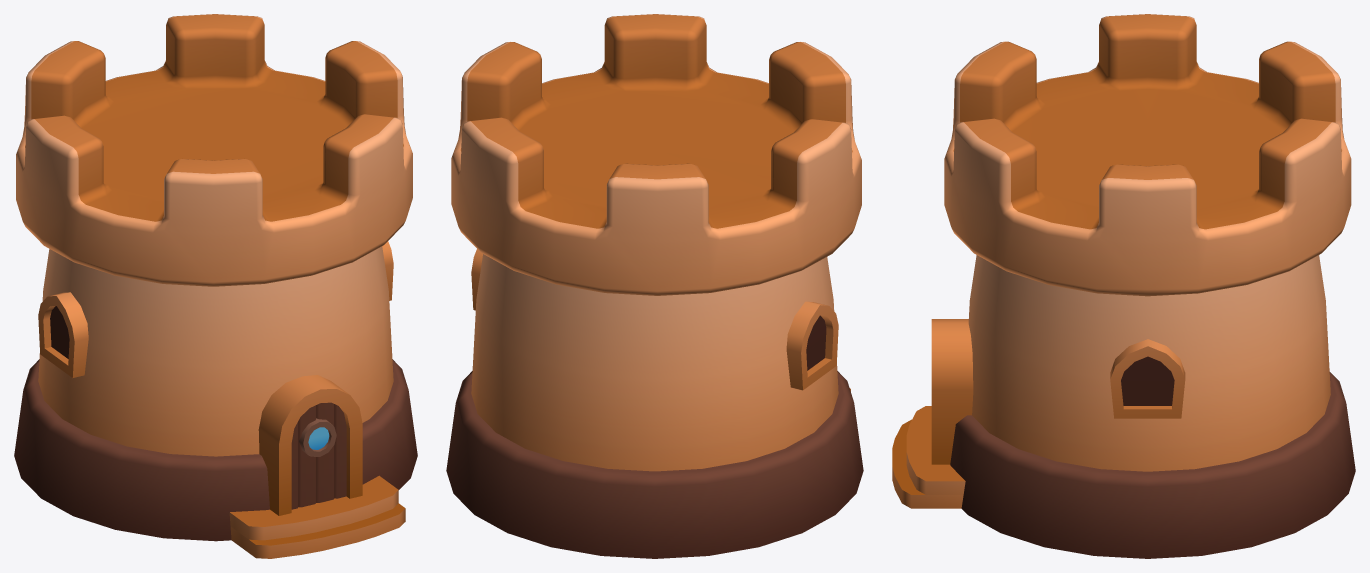
File: Tower_01.glb
The picture shows the model from 3 angles, left to right: view 1: azimuth 30°, elevation 25°; view 2: azimuth 150°, elevation 25°; view 3: azimuth 270°, elevation 25°; orthographic projection. The views are drawn at different scales.
Parts seen in each view (by area): view 1: Tower_01; view 2: Tower_01; view 3: Tower_01.
Part boxes in pixels (x1,y1,x2,y2): Tower_01: (14,14,417,558); Tower_01: (446,14,863,558); Tower_01: (892,14,1355,558).
Bounding box in the file's own units: 11.37 × 11.25 × 12.67.
1 material, 1 textured.
